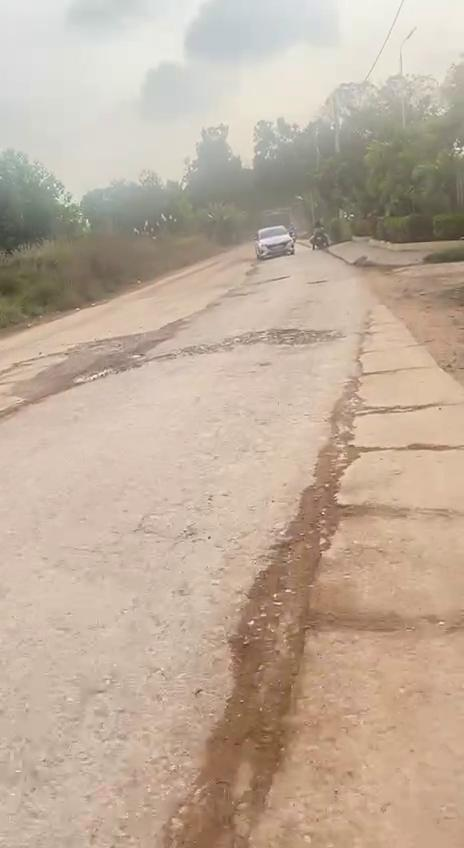pothole: (233, 480, 356, 682)
